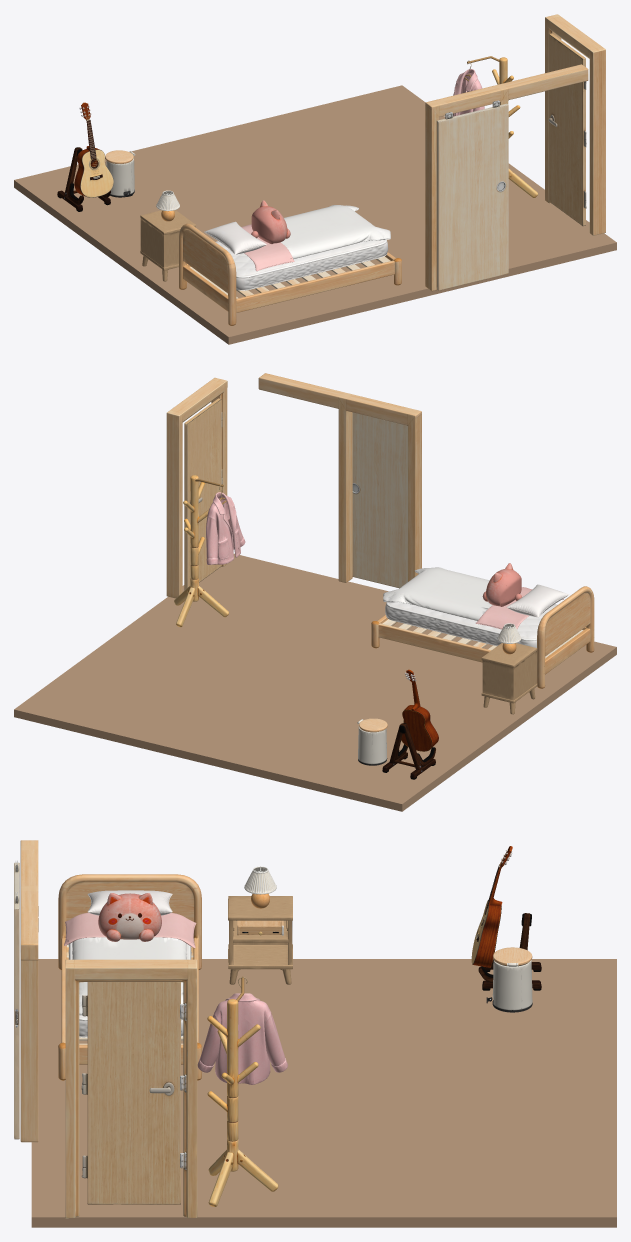
3 renders of one model, top to bottom at view 1: azimuth 30°, elevation 25°; view 2: azimuth 150°, elevation 25°; view 3: azimuth 270°, elevation 25°, orthographic. The views are drawn at different scales.
Parts seen in each view (by area): view 1: bedroom.floor, d02-closet-leaf.mesh.0, b01-bed-frame.mesh.0, d04-entry-leaf.mesh.0, d01-closet-frame.mesh.0, d03-entry-frame.mesh.0, b03-duvet.mesh.0, b02-mattress.mesh.0, n01-carcass.mesh.0, g01-guitar.mesh.0, b05-peach-cat.mesh.0, b04-pillow.mesh.0 (+4 smaller); view 2: bedroom.floor, d02-closet-leaf.mesh.0, d01-closet-frame.mesh.0, b01-bed-frame.mesh.0, d03-entry-frame.mesh.0, b03-duvet.mesh.0, d04-entry-leaf.mesh.0, b02-mattress.mesh.0, n01-carcass.mesh.0, c02-pink-coat.mesh.0, c01-coat-rack.mesh.0, g01-guitar.mesh.0 (+4 smaller); view 3: bedroom.floor, d04-entry-leaf.mesh.0, d03-entry-frame.mesh.0, b01-bed-frame.mesh.0, d01-closet-frame.mesh.0, b03-duvet.mesh.0, c02-pink-coat.mesh.0, n01-carcass.mesh.0, c01-coat-rack.mesh.0, b05-peach-cat.mesh.0, t01-bin-body.mesh.0, g01-guitar.mesh.0 (+6 smaller).
Boxes of the visible parts, bbox=[...] form: bedroom.floor: bbox=[14, 85, 616, 344]; d02-closet-leaf.mesh.0: bbox=[436, 100, 508, 290]; b01-bed-frame.mesh.0: bbox=[179, 223, 401, 325]; d04-entry-leaf.mesh.0: bbox=[548, 33, 586, 225]; d01-closet-frame.mesh.0: bbox=[425, 64, 588, 291]; d03-entry-frame.mesh.0: bbox=[545, 14, 605, 235]; b03-duvet.mesh.0: bbox=[241, 205, 390, 271]; b02-mattress.mesh.0: bbox=[216, 239, 388, 290]; n01-carcass.mesh.0: bbox=[140, 210, 195, 281]; g01-guitar.mesh.0: bbox=[74, 102, 113, 197]; b05-peach-cat.mesh.0: bbox=[251, 200, 290, 243]; b04-pillow.mesh.0: bbox=[204, 221, 266, 254]; bedroom.floor: bbox=[14, 553, 616, 811]; d02-closet-leaf.mesh.0: bbox=[352, 412, 407, 588]; d01-closet-frame.mesh.0: bbox=[258, 373, 421, 582]; b01-bed-frame.mesh.0: bbox=[371, 586, 594, 688]; d03-entry-frame.mesh.0: bbox=[166, 377, 227, 598]; b03-duvet.mesh.0: bbox=[383, 567, 563, 629]; d04-entry-leaf.mesh.0: bbox=[184, 398, 222, 590]; b02-mattress.mesh.0: bbox=[385, 602, 557, 647]; n01-carcass.mesh.0: bbox=[481, 643, 537, 714]; c02-pink-coat.mesh.0: bbox=[206, 492, 245, 564]; c01-coat-rack.mesh.0: bbox=[174, 475, 228, 627]; g01-guitar.mesh.0: bbox=[401, 669, 438, 751]; bedroom.floor: bbox=[31, 959, 616, 1227]; d04-entry-leaf.mesh.0: bbox=[81, 982, 180, 1204]; d03-entry-frame.mesh.0: bbox=[65, 959, 197, 1218]; b01-bed-frame.mesh.0: bbox=[58, 874, 201, 1080]; d01-closet-frame.mesh.0: bbox=[20, 840, 38, 1142]; b03-duvet.mesh.0: bbox=[64, 912, 196, 1015]; c02-pink-coat.mesh.0: bbox=[197, 993, 287, 1084]; n01-carcass.mesh.0: bbox=[228, 896, 292, 984]; c01-coat-rack.mesh.0: bbox=[207, 999, 278, 1206]; b05-peach-cat.mesh.0: bbox=[98, 893, 161, 941]; t01-bin-body.mesh.0: bbox=[492, 960, 532, 1012]; g01-guitar.mesh.0: bbox=[471, 846, 512, 967].
Size of the model in its own units: 4.82 by 2.27 by 4.74.
27 materials, 23 textured.
